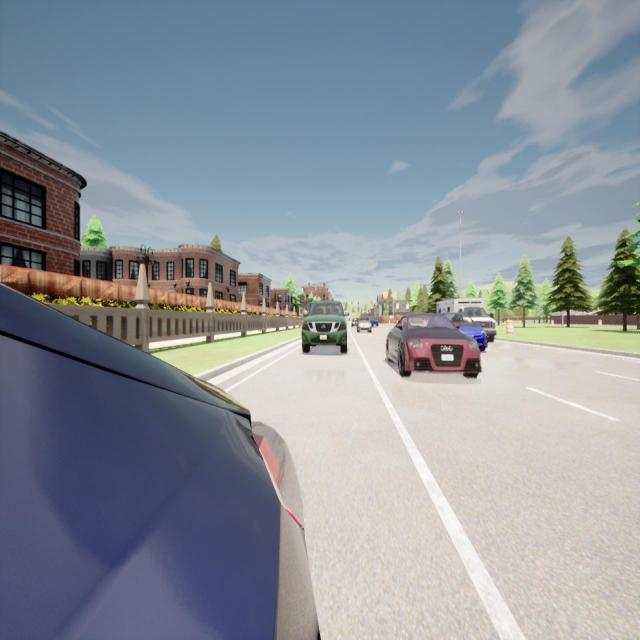Vehicle: (2, 276, 322, 640), (385, 312, 481, 376), (436, 298, 498, 344), (302, 301, 348, 352), (441, 311, 487, 351), (356, 313, 372, 333), (351, 317, 359, 329), (372, 318, 379, 328)
